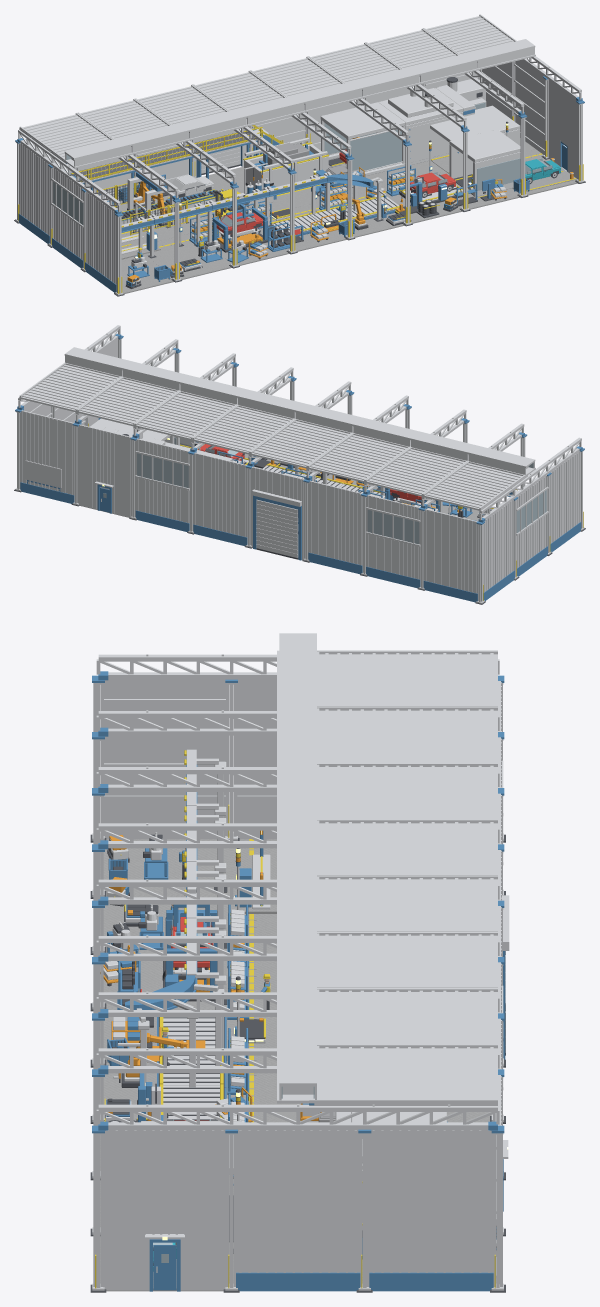
The model's file is car_factory.glb.
The picture shows the model from 3 angles, top to bottom: view 1: azimuth 30°, elevation 25°; view 2: azimuth 150°, elevation 25°; view 3: azimuth 270°, elevation 25°; orthographic projection. The views are drawn at different scales.
Visible parts, largest first — view 1: 122-oven-tunnel-module/0, 160-water-leak-test-tunnel/0, 054-hall-wall-cladding-bay/0, 056-hall-wall-cladding-bay/0, 059-hall-personnel-door-bay/0, 069-hall-roof-cladding-bay/0, 119-paint-booth-module/0, 058-hall-wall-cladding-bay/0, 072-hall-roof-cladding-bay/0, 076-hall-roof-cladding-bay/0, 071-hall-roof-cladding-bay/0, 074-hall-roof-cladding-bay/0 (+67 smaller); view 2: 052-hall-personnel-door-bay/0, 050-hall-wall-cladding-bay/0, 046-hall-wall-cladding-bay/0, 048-hall-wall-cladding-bay/0, 053-hall-wall-cladding-bay/0, 047-hall-window-band-bay/0, 051-hall-window-band-bay/0, 069-hall-roof-cladding-bay/0, 075-hall-roof-cladding-bay/0, 070-hall-roof-cladding-bay/0, 071-hall-roof-cladding-bay/0, 076-hall-roof-cladding-bay/0 (+41 smaller); view 3: 059-hall-personnel-door-bay/0, 058-hall-wall-cladding-bay/0, 057-hall-wall-cladding-bay/0, 056-hall-wall-cladding-bay/0, 076-hall-roof-cladding-bay/0, 070-hall-roof-cladding-bay/0, 071-hall-roof-cladding-bay/0, 072-hall-roof-cladding-bay/0, 074-hall-roof-cladding-bay/0, 069-hall-roof-cladding-bay/0, 073-hall-roof-cladding-bay/0, 075-hall-roof-cladding-bay/0 (+41 smaller).
Part boxes in pixels (<box>): 122-oven-tunnel-module/0: <box>378,86,463,164</box>; 160-water-leak-test-tunnel/0: <box>449,129,520,196</box>; 054-hall-wall-cladding-bay/0: <box>19,143,50,243</box>; 056-hall-wall-cladding-bay/0: <box>85,191,116,291</box>; 059-hall-personnel-door-bay/0: <box>548,80,578,179</box>; 069-hall-roof-cladding-bay/0: <box>19,113,113,163</box>; 119-paint-booth-module/0: <box>320,102,405,175</box>; 058-hall-wall-cladding-bay/0: <box>514,59,544,154</box>; 072-hall-roof-cladding-bay/0: <box>192,70,285,111</box>; 076-hall-roof-cladding-bay/0: <box>423,14,516,54</box>; 071-hall-roof-cladding-bay/0: <box>135,84,228,125</box>; 074-hall-roof-cladding-bay/0: <box>308,42,401,82</box>; 052-hall-personnel-door-bay/0: <box>78,424,132,517</box>; 050-hall-wall-cladding-bay/0: <box>193,452,247,544</box>; 046-hall-wall-cladding-bay/0: <box>424,509,478,600</box>; 048-hall-wall-cladding-bay/0: <box>309,480,362,572</box>; 053-hall-wall-cladding-bay/0: <box>20,410,74,502</box>; 047-hall-window-band-bay/0: <box>366,494,420,586</box>; 051-hall-window-band-bay/0: <box>135,438,189,530</box>; 069-hall-roof-cladding-bay/0: <box>423,461,527,510</box>; 075-hall-roof-cladding-bay/0: <box>77,376,180,426</box>; 070-hall-roof-cladding-bay/0: <box>365,447,468,496</box>; 071-hall-roof-cladding-bay/0: <box>307,433,410,482</box>; 076-hall-roof-cladding-bay/0: <box>19,362,122,412</box>; 059-hall-personnel-door-bay/0: <box>103,1129,227,1290</box>; 058-hall-wall-cladding-bay/0: <box>236,1129,360,1272</box>; 057-hall-wall-cladding-bay/0: <box>369,1129,493,1272</box>; 056-hall-wall-cladding-bay/0: <box>103,679,226,839</box>; 076-hall-roof-cladding-bay/0: <box>309,1044,497,1105</box>; 070-hall-roof-cladding-bay/0: <box>317,706,497,762</box>; 071-hall-roof-cladding-bay/0: <box>317,762,497,818</box>; 072-hall-roof-cladding-bay/0: <box>317,819,497,875</box>; 074-hall-roof-cladding-bay/0: <box>317,931,497,987</box>; 069-hall-roof-cladding-bay/0: <box>317,650,497,706</box>; 073-hall-roof-cladding-bay/0: <box>317,875,497,931</box>; 075-hall-roof-cladding-bay/0: <box>317,988,497,1043</box>.
Bounding box in the file's own units: 48.83 × 10.34 × 18.88.
Materials: 12 (1 with a texture image).
